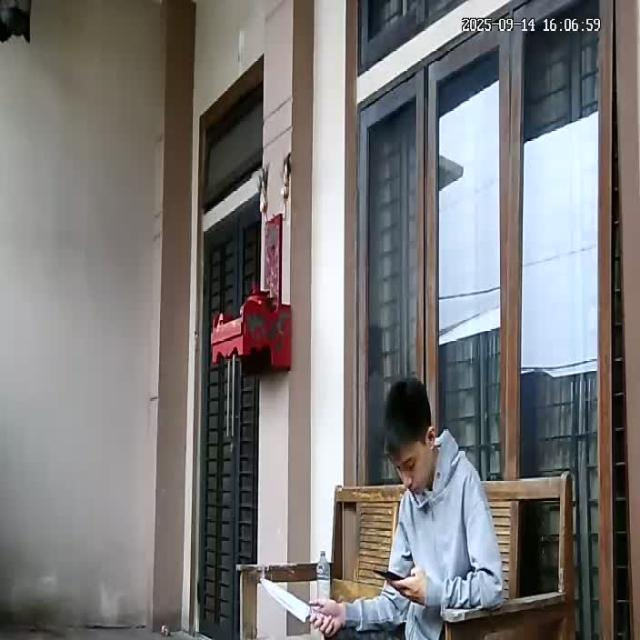senjata_tajam: (257, 575, 312, 623)
